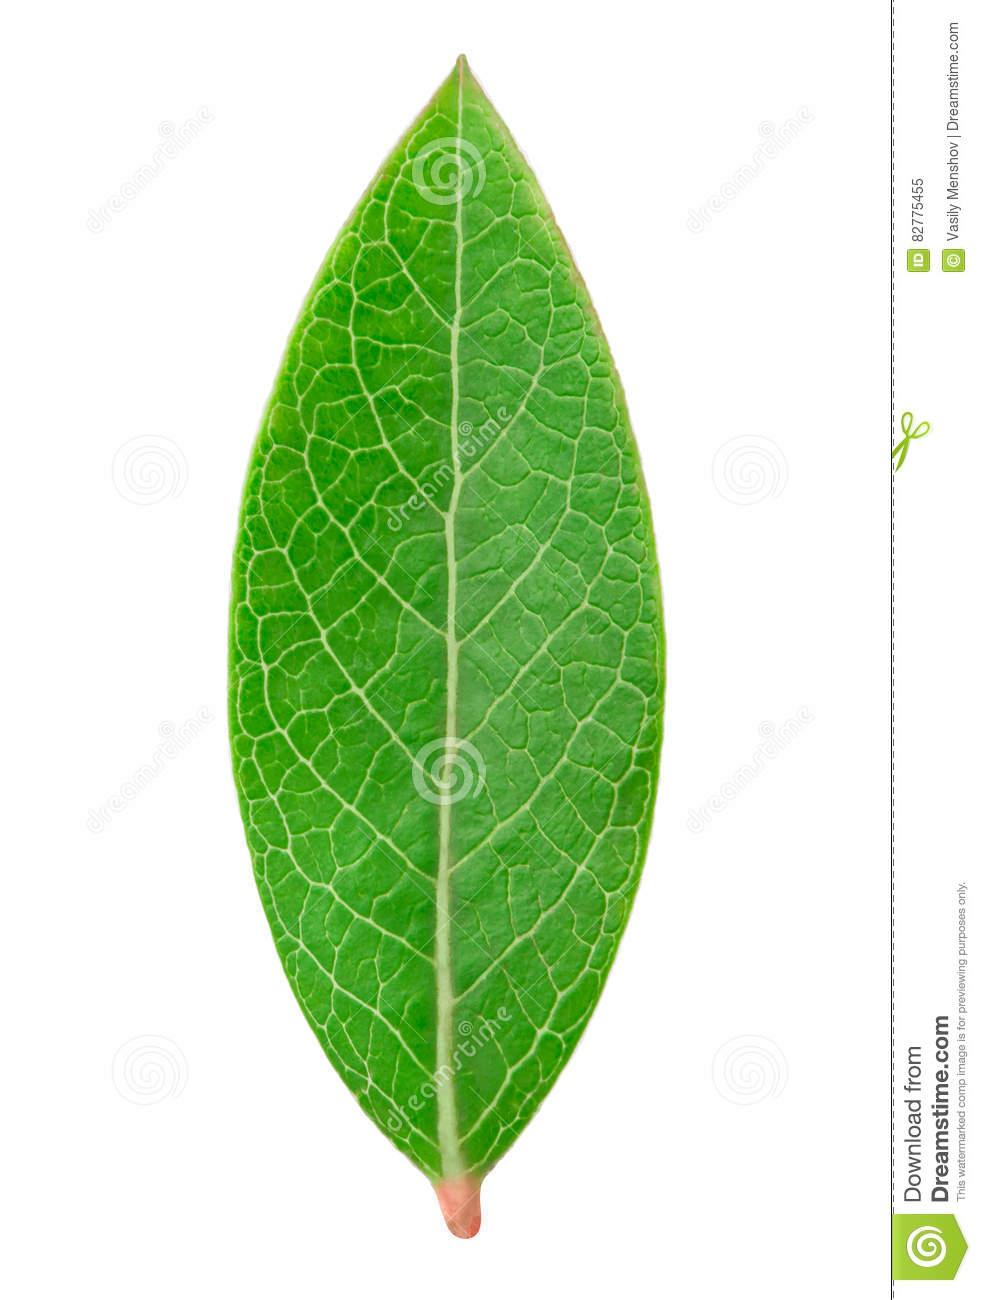Blueberry leaf: (198, 29, 720, 1282)
